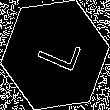L_W: (28, 31, 82, 79)
